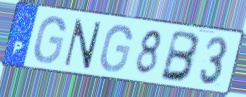3: (198, 35, 230, 87)
8: (133, 28, 162, 77)
B: (158, 28, 202, 84)
G: (98, 24, 134, 74), (32, 15, 67, 66)
N: (62, 17, 104, 71)
